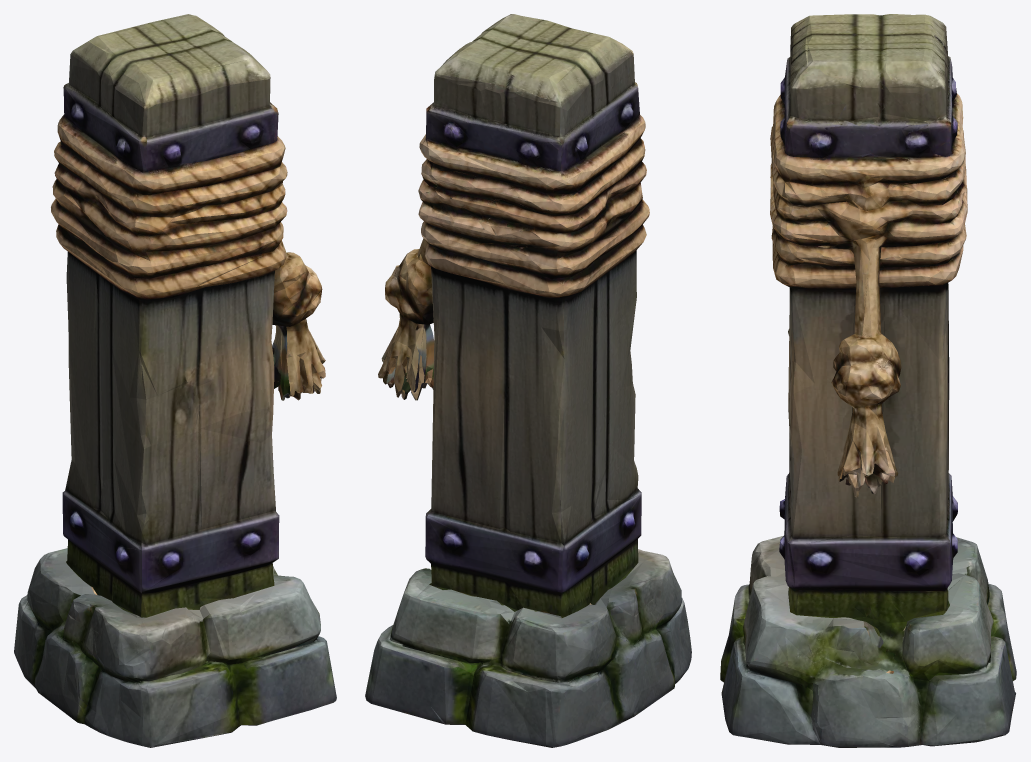
The model's file is post-hd.glb.
The picture shows the model from 3 angles, left to right: view 1: azimuth 30°, elevation 25°; view 2: azimuth 150°, elevation 25°; view 3: azimuth 270°, elevation 25°; orthographic projection. The views are drawn at different scales.
Visible parts, largest first — view 1: tmpkjivv5f0.ply; view 2: tmpkjivv5f0.ply; view 3: tmpkjivv5f0.ply.
Part boxes in pixels (<box>): tmpkjivv5f0.ply: <box>14,14,336,747</box>; tmpkjivv5f0.ply: <box>365,14,691,747</box>; tmpkjivv5f0.ply: <box>720,14,1016,747</box>.
Size of the model in its own units: 0.8937 by 1.99 by 0.8256.
Materials: 1 (1 with a texture image).
